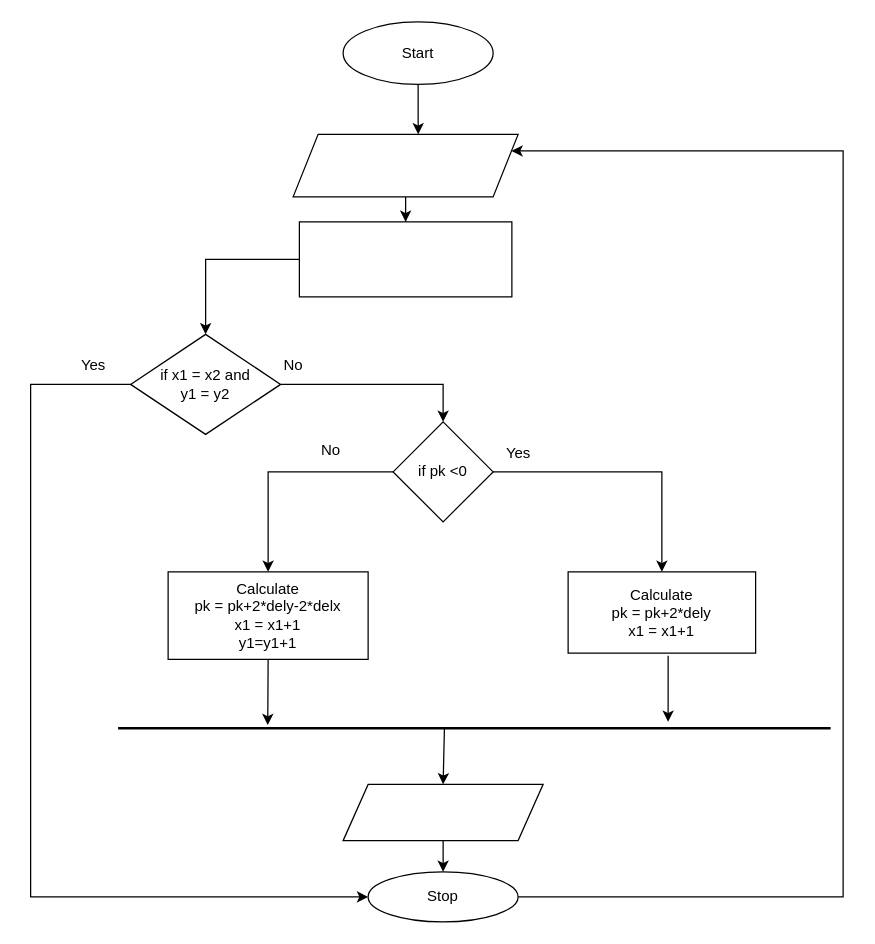
The diagram is 875 pixels wide and 944 high, and some of its shapes have lost their labels. The shapes that lost their labels are listed below. From the top down, each one's centre as x and y in pixels, then its label:
At (405,165): "Input x1,x2 and y2,y2".
At (405,259): "Calculate delx = x2-x1 dely = y2 - y1 pk = 2*dely - delx".
At (442,812): "Print x1 and y1".
